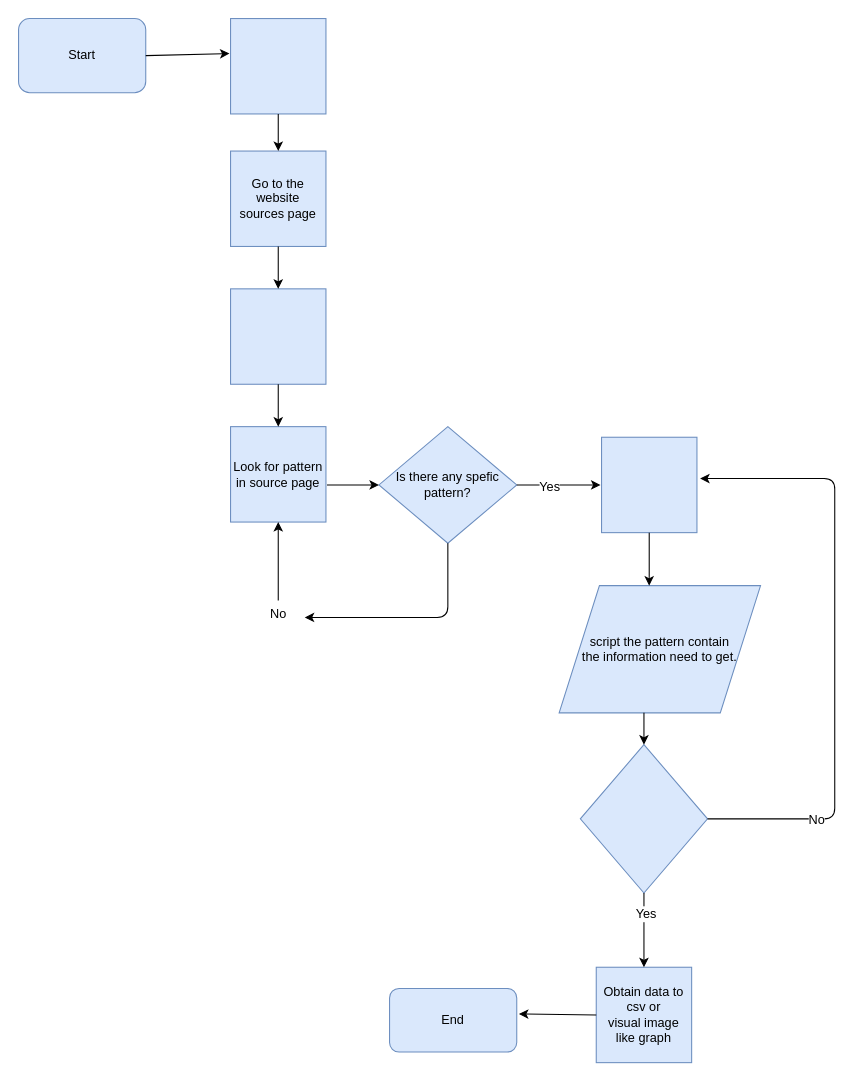
Image size: 862x1081. Some labels were removed from this diagram. Here are the shapes that lost their labels. From the top down, the centre of each, then its label:
At (x=277, y=65): "Open web Browser".
At (x=277, y=336): "Analyze source page".
At (x=648, y=484): "Web Scrapping Processes".
At (x=643, y=818): "Data successfully obtain".
